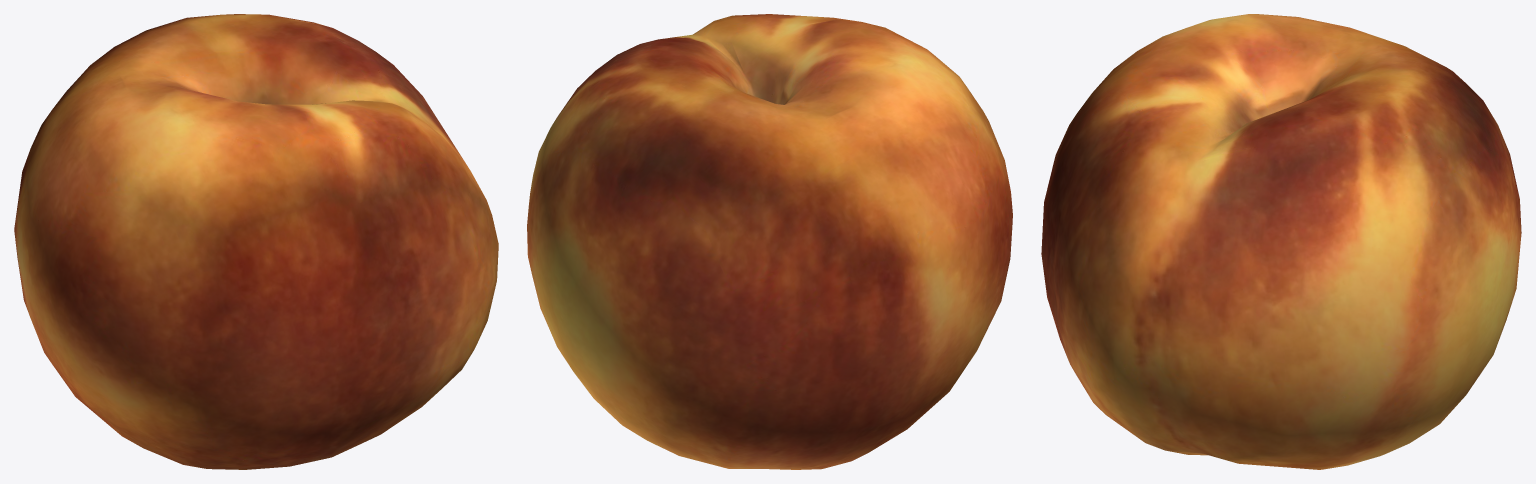
File: 71_peach.glb
3 renders of one model, left to right at view 1: azimuth 30°, elevation 25°; view 2: azimuth 150°, elevation 25°; view 3: azimuth 270°, elevation 25°, orthographic. The views are drawn at different scales.
Visible parts, largest first — view 1: 71_peach; view 2: 71_peach; view 3: 71_peach.
Boxes of the visible parts, bbox=[...] form: 71_peach: bbox=[14, 14, 498, 469]; 71_peach: bbox=[527, 14, 1012, 469]; 71_peach: bbox=[1041, 14, 1521, 469].
Bounding box in the file's own units: 0.9916 × 0.8787 × 0.9925.
1 material, 1 textured.
